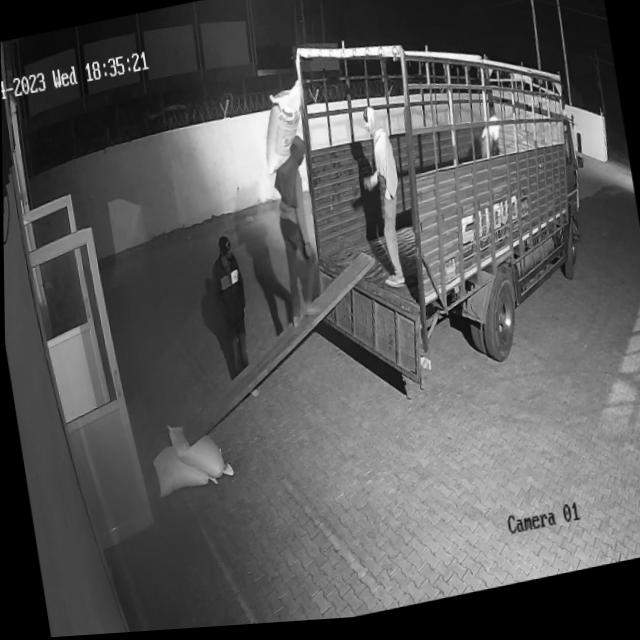sack: (254, 83, 312, 181), (164, 415, 233, 491), (149, 440, 215, 501)
